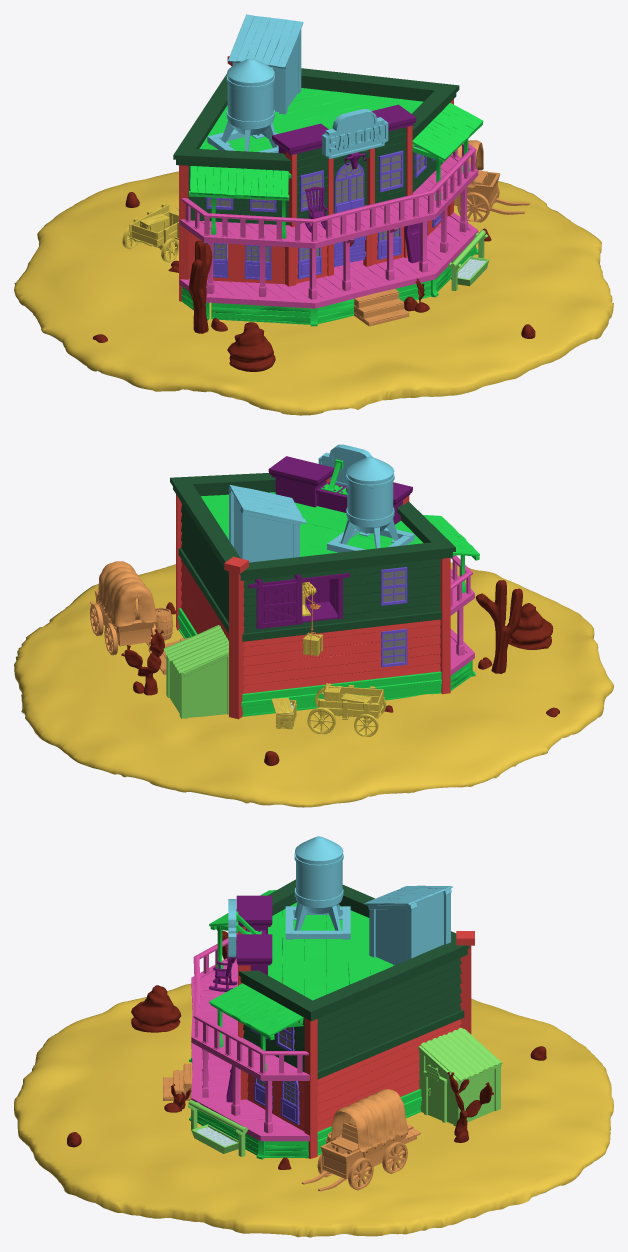
File: WildWestSaloon Environment.fbx
The picture shows the model from 3 angles, top to bottom: view 1: azimuth 30°, elevation 25°; view 2: azimuth 150°, elevation 25°; view 3: azimuth 270°, elevation 25°; orthographic projection.
Parts seen in each view (by area): view 1: Terrain, Balcony, Roof Tops - Supports, Building Top Wood, Water Tower - Roof Door - Sign, Bottom Wood, Window Frames - Doors, Wagon - Trapdoor - Barrels - Steps, Chair - Coffin - Small Wood Parts, Desert Rock_lowpoly, Window Glass, Wagon - Crates - Crane (+2 smaller); view 2: Terrain, Building Top Wood, Bottom Wood, Water Tower - Roof Door - Sign, Roof Tops - Supports, Chair - Coffin - Small Wood Parts, Wagon - Trapdoor - Barrels - Steps, Toilet - Trouth, Wagon - Crates - Crane, Desert Rock_lowpoly, cactus 1_lowpoly, Balcony (+3 smaller); view 3: Terrain, Building Top Wood, Roof Tops - Supports, Water Tower - Roof Door - Sign, Balcony, Bottom Wood, Wagon - Trapdoor - Barrels - Steps, Toilet - Trouth, Chair - Coffin - Small Wood Parts, Desert Rock_lowpoly, Window Frames - Doors, cactus 2_lowpoly.
Part boxes in pixels (x1=…): Terrain: x1=14, y1=171, x2=613, y2=415; Balcony: x1=179, y1=143, x2=478, y2=308; Roof Tops - Supports: x1=181, y1=88, x2=483, y2=326; Building Top Wood: x1=173, y1=66, x2=459, y2=225; Water Tower - Roof Door - Sign: x1=207, y1=14, x2=388, y2=158; Bottom Wood: x1=179, y1=56, x2=453, y2=301; Window Frames - Doors: x1=204, y1=146, x2=440, y2=280; Wagon - Trapdoor - Barrels - Steps: x1=354, y1=140, x2=529, y2=326; Chair - Coffin - Small Wood Parts: x1=272, y1=104, x2=420, y2=263; Desert Rock_lowpoly: x1=92, y1=192, x2=535, y2=371; Window Glass: x1=204, y1=146, x2=424, y2=261; Wagon - Crates - Crane: x1=122, y1=203, x2=178, y2=262; Terrain: x1=14, y1=562, x2=613, y2=807; Building Top Wood: x1=170, y1=473, x2=455, y2=641; Bottom Wood: x1=176, y1=478, x2=450, y2=719; Water Tower - Roof Door - Sign: x1=228, y1=444, x2=414, y2=562; Roof Tops - Supports: x1=177, y1=459, x2=479, y2=716; Chair - Coffin - Small Wood Parts: x1=248, y1=456, x2=412, y2=629; Wagon - Trapdoor - Barrels - Steps: x1=90, y1=561, x2=189, y2=674; Toilet - Trouth: x1=163, y1=625, x2=228, y2=718; Wagon - Crates - Crane: x1=271, y1=582, x2=386, y2=736; Desert Rock_lowpoly: x1=133, y1=602, x2=559, y2=765; cactus 1_lowpoly: x1=476, y1=580, x2=522, y2=673; Balcony: x1=450, y1=555, x2=474, y2=675; Terrain: x1=14, y1=983, x2=613, y2=1237; Building Top Wood: x1=239, y1=879, x2=469, y2=1079; Roof Tops - Supports: x1=189, y1=890, x2=421, y2=1159; Water Tower - Roof Door - Sign: x1=228, y1=836, x2=452, y2=965; Balcony: x1=191, y1=933, x2=309, y2=1141; Bottom Wood: x1=238, y1=927, x2=474, y2=1158; Wagon - Trapdoor - Barrels - Steps: x1=163, y1=1063, x2=420, y2=1191; Toilet - Trouth: x1=187, y1=1027, x2=502, y2=1156; Chair - Coffin - Small Wood Parts: x1=209, y1=895, x2=272, y2=1102; Desert Rock_lowpoly: x1=67, y1=985, x2=546, y2=1169; Window Frames - Doors: x1=238, y1=934, x2=299, y2=1124; cactus 2_lowpoly: x1=447, y1=1072, x2=493, y2=1135.
Size of the model in its own units: 2548 by 1153 by 2553.
